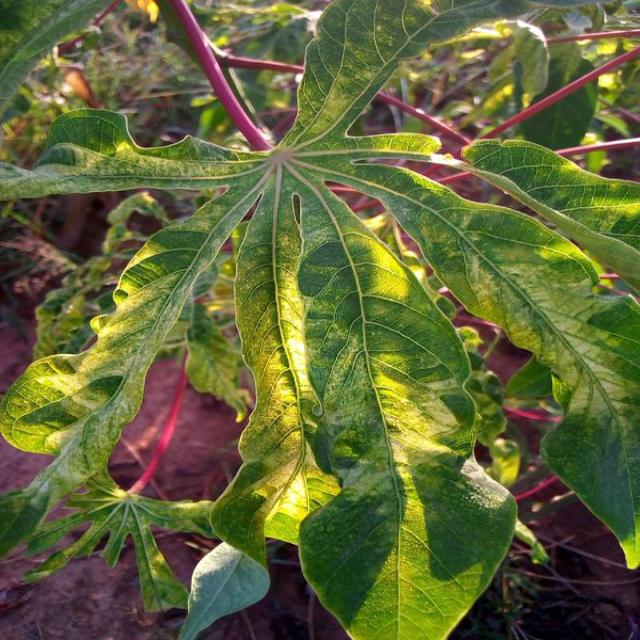cassava leaf: (0, 1, 638, 638), (287, 168, 518, 638)
